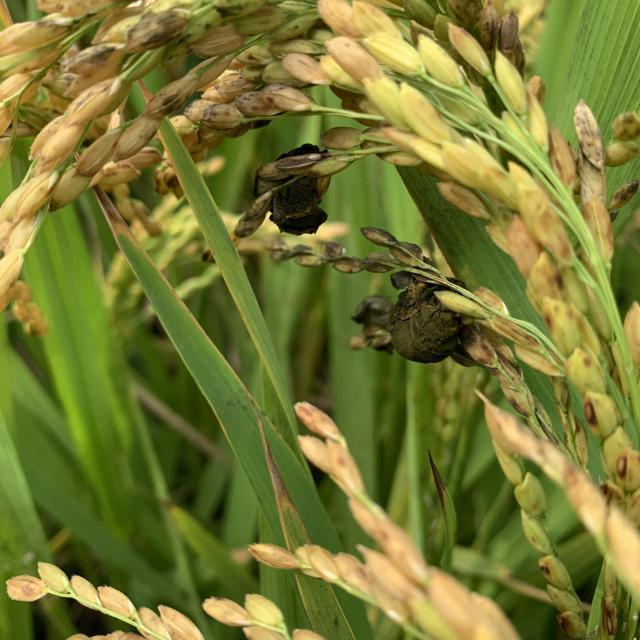Leaf_Scald: (360, 261, 474, 371), (256, 143, 340, 237)
